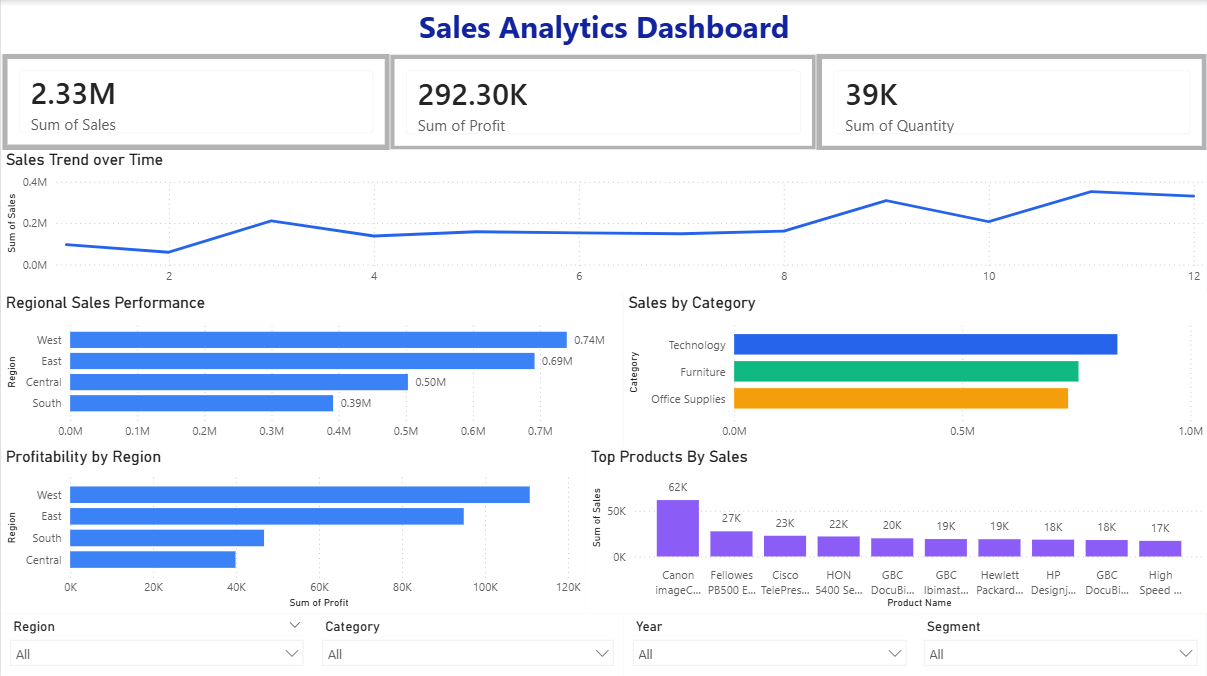

This screenshot's page, from the dashboard's own definition file:
{"tool":"powerbi","page":{"name":"Page 1","canvas":[1280,720],"ordinal":0},"visuals":[{"type":"cardVisual","fields":{"Data":["Sum(samplesuperstore.Sales)"]},"box":[1.6,57.3,410.4,101.8],"z":0},{"type":"cardVisual","fields":{"Data":["Sum(samplesuperstore.Profit)"]},"box":[412,56.7,453.5,102],"z":1000},{"type":"cardVisual","fields":{"Data":["Sum(samplesuperstore.Quantity)"]},"box":[865.5,56.7,413.9,102],"z":2000},{"type":"lineChart","title":"Sales Trend over Time","fields":{"Y":["Sum(samplesuperstore.Sales)"],"Category":["samplesuperstore.Month No"]},"box":[0,158.7,1279.4,151.2],"z":3000},{"type":"clusteredBarChart","title":"Regional Sales Performance","fields":{"Category":["samplesuperstore.Region"],"Y":["Sum(samplesuperstore.Sales)"]},"box":[0,309.9,659.5,164.4],"z":4000},{"type":"clusteredBarChart","title":"Sales by Category","fields":{"Category":["samplesuperstore.Category"],"Y":["Sum(samplesuperstore.Sales)"]},"box":[659.5,309.9,619.8,164.4],"z":5000},{"type":"clusteredColumnChart","title":"Top Products By Sales","fields":{"Category":["samplesuperstore.Product Name"],"Y":["Sum(samplesuperstore.Sales)"]},"box":[619.8,474.3,659.5,175.7],"z":6000},{"type":"barChart","title":"Profitability by Region","fields":{"Category":["samplesuperstore.Region"],"Y":["Sum(samplesuperstore.Profit)"]},"box":[0,474.3,619.8,175.7],"z":7000},{"type":"slicer","fields":{"Values":["samplesuperstore.Region"]},"box":[0,650.1,330.7,69.9],"z":8000},{"type":"slicer","fields":{"Values":["samplesuperstore.Category"]},"box":[330.7,650.1,328.8,69.9],"z":9000},{"type":"slicer","fields":{"Values":["samplesuperstore.Year"]},"box":[659.5,650.1,309.9,69.9],"z":10000},{"type":"slicer","fields":{"Values":["samplesuperstore.Segment"]},"box":[969.5,650.1,309.9,69.9],"z":11000},{"type":"textbox","box":[0,0,1279.4,56.7],"z":12000}]}

Visuals, with their boxes in screenshot pixels (x1, y1, x2, y2), scaled from the page's 1280x720 canvas onto the 1207x676 screenshot:
cardVisual - Sum(samplesuperstore.Sales): (x1=2, y1=54, x2=389, y2=149)
cardVisual - Sum(samplesuperstore.Profit): (x1=389, y1=53, x2=816, y2=149)
cardVisual - Sum(samplesuperstore.Quantity): (x1=816, y1=53, x2=1206, y2=149)
"Sales Trend over Time" lineChart: (x1=0, y1=149, x2=1206, y2=291)
"Regional Sales Performance" clusteredBarChart: (x1=0, y1=291, x2=622, y2=445)
"Sales by Category" clusteredBarChart: (x1=622, y1=291, x2=1206, y2=445)
"Top Products By Sales" clusteredColumnChart: (x1=584, y1=445, x2=1206, y2=610)
"Profitability by Region" barChart: (x1=0, y1=445, x2=584, y2=610)
slicer - samplesuperstore.Region: (x1=0, y1=610, x2=312, y2=675)
slicer - samplesuperstore.Category: (x1=312, y1=610, x2=622, y2=675)
slicer - samplesuperstore.Year: (x1=622, y1=610, x2=914, y2=675)
slicer - samplesuperstore.Segment: (x1=914, y1=610, x2=1206, y2=675)
textbox: (x1=0, y1=0, x2=1206, y2=53)
